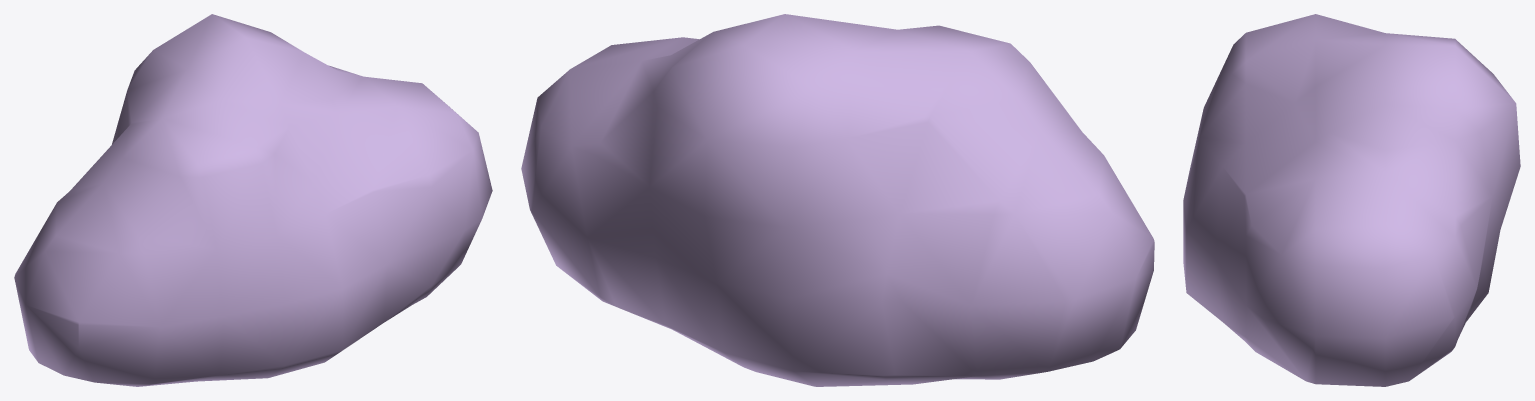
Rendered from spore_puff_A.glb.
3 views of the same model, side by side, from view 1: azimuth 30°, elevation 25°; view 2: azimuth 150°, elevation 25°; view 3: azimuth 270°, elevation 25° (orthographic). The views are drawn at different scales.
Parts seen in each view (by area): view 1: spore_puff_A; view 2: spore_puff_A; view 3: spore_puff_A.
Part boxes in pixels (bbox=[...]): spore_puff_A: bbox=[14, 14, 492, 386]; spore_puff_A: bbox=[521, 14, 1154, 386]; spore_puff_A: bbox=[1183, 14, 1520, 386].
Size of the model in its own units: 1.93 by 1.12 by 1.16.
